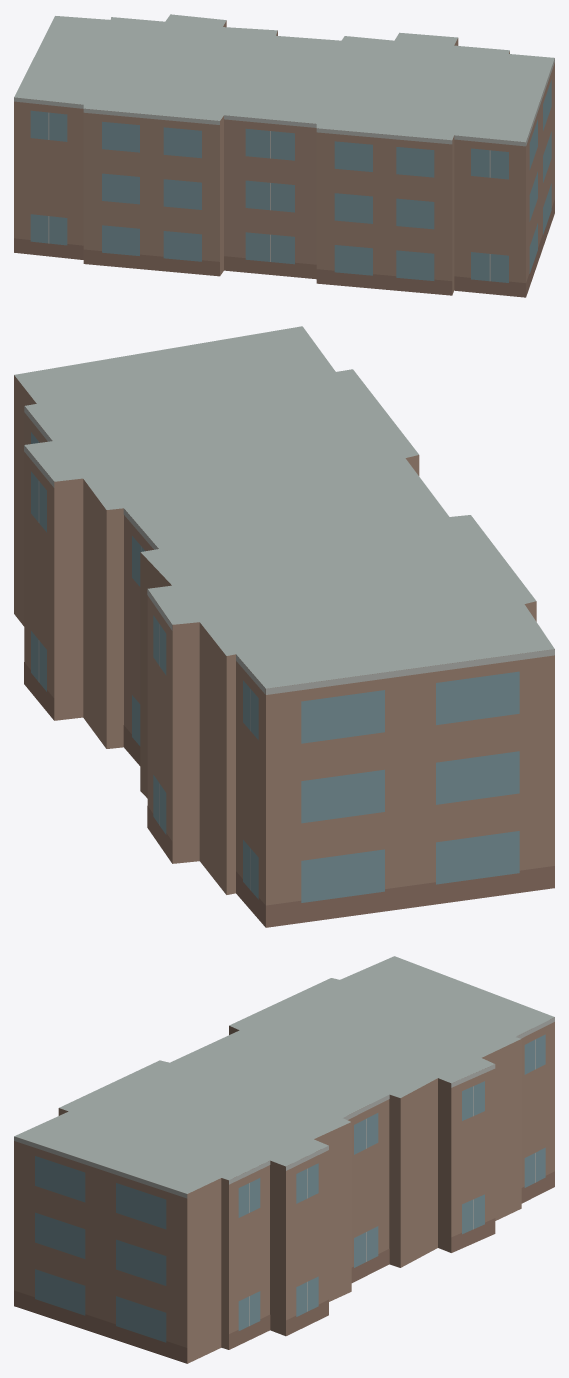
File: survey-upis-32702506.glb
The picture shows the model from 3 angles, top to bottom: view 1: azimuth 30°, elevation 25°; view 2: azimuth 150°, elevation 25°; view 3: azimuth 270°, elevation 25°; orthographic projection. The views are drawn at different scales.
Parts seen in each view (by area): view 1: survey-upis-32702506.tmp; view 2: survey-upis-32702506.tmp; view 3: survey-upis-32702506.tmp.
Boxes of the visible parts, box(x1,y1,x2,y2) form: survey-upis-32702506.tmp: box(14, 14, 554, 297); survey-upis-32702506.tmp: box(14, 326, 554, 927); survey-upis-32702506.tmp: box(14, 956, 554, 1363).
Bounding box in the file's own units: 27.51 × 9.15 × 26.42.
